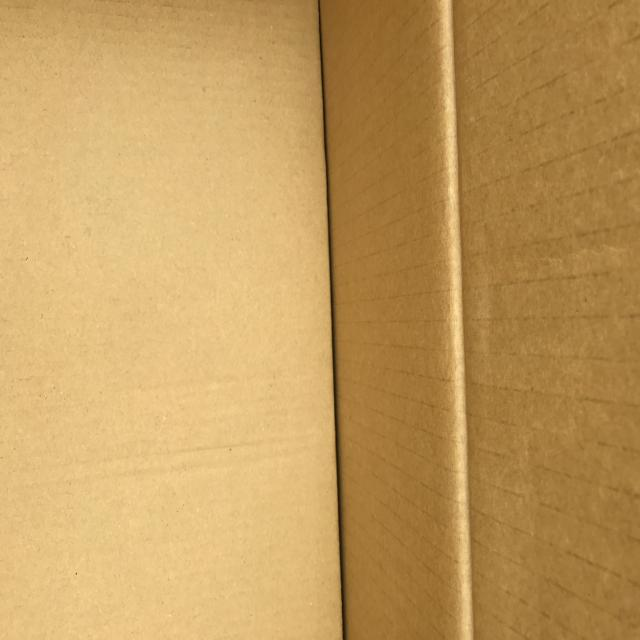cardboard: (0, 0, 344, 640), (320, 0, 640, 640)
